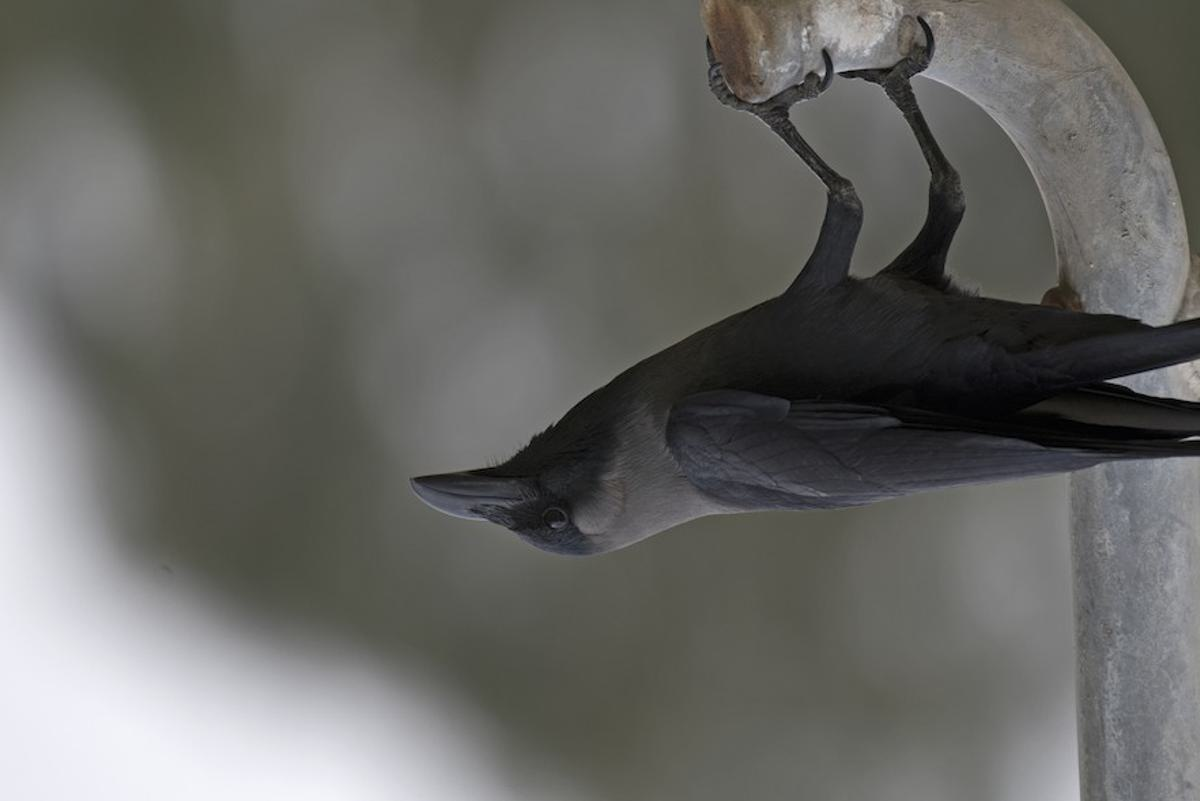crow: (391, 16, 1200, 561)
